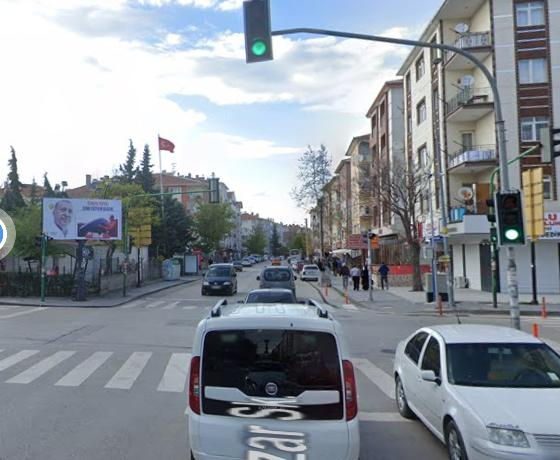greenlight: (244, 1, 273, 60), (496, 191, 522, 242)
